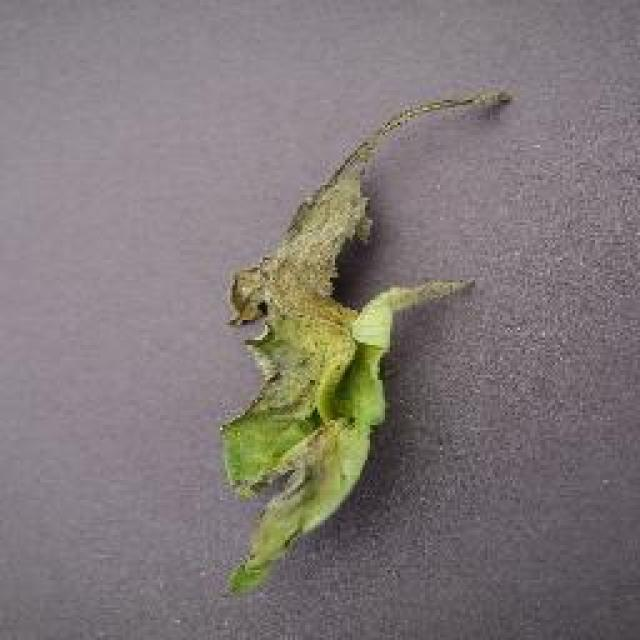Tomato Late Blight: (222, 105, 506, 427)
